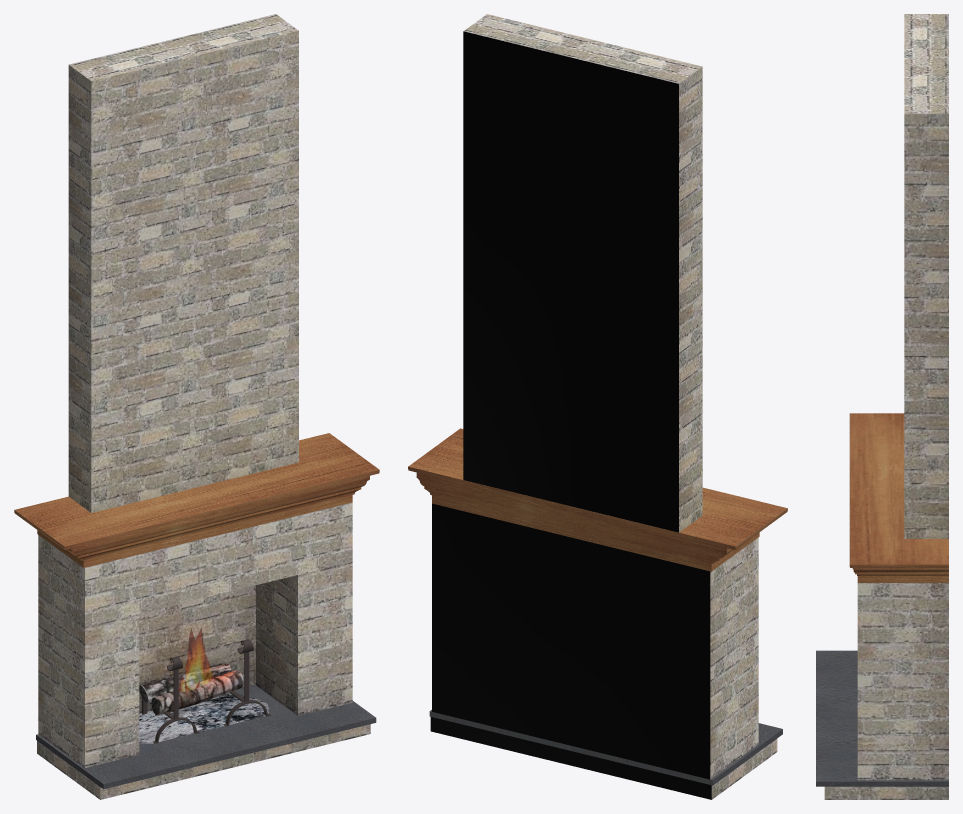
File: sh_scopia_fireplace2.glb
The picture shows the model from 3 angles, left to right: view 1: azimuth 30°, elevation 25°; view 2: azimuth 150°, elevation 25°; view 3: azimuth 270°, elevation 25°; orthographic projection. The views are drawn at different scales.
Size of the model in its own units: 1.21 by 2.5 by 0.449.
8 materials, 7 textured.
